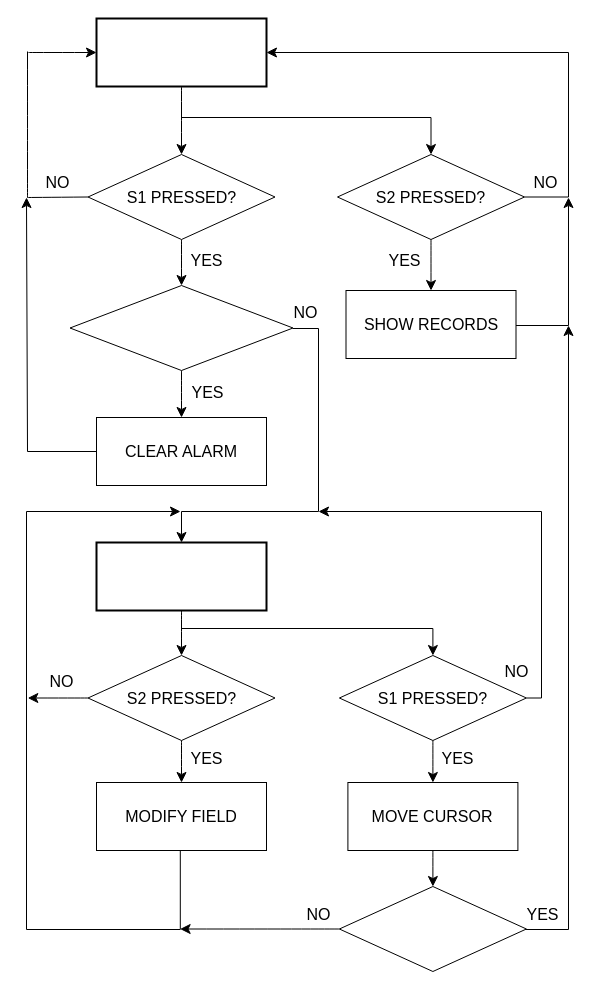
This 596x989 diagram has some shape labels left out. Here are the shapes that lost their labels. From the top down, the box of each, then its label:
(95, 17, 267, 87): NORMAL MODE
(69, 284, 293, 370): ALARM PRESENT?
(95, 541, 267, 611): CONFIG. MODE
(338, 886, 526, 972): CURSOR END?
